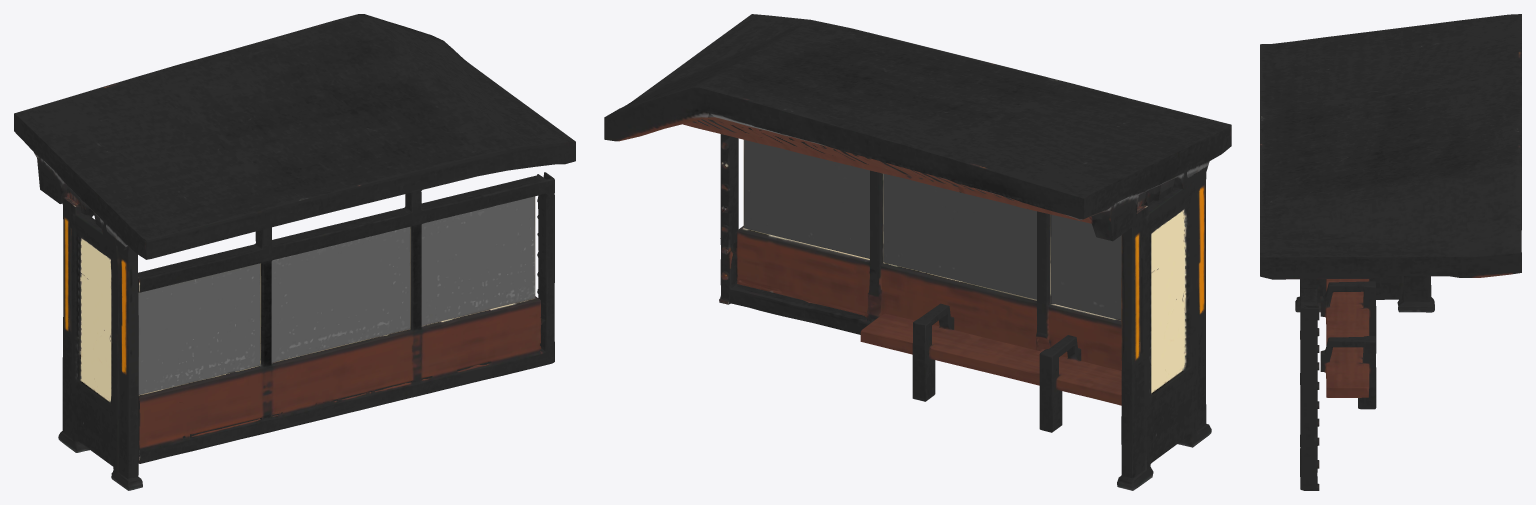
The model's file is tram_shelter.glb.
The picture shows the model from 3 angles, left to right: view 1: azimuth 30°, elevation 25°; view 2: azimuth 150°, elevation 25°; view 3: azimuth 270°, elevation 25°; orthographic projection. The views are drawn at different scales.
Parts seen in each view (by area): view 1: shelter; view 2: shelter; view 3: shelter.
Boxes of the visible parts, x1,y1,x2,y2 form: shelter: [14, 14, 575, 490]; shelter: [604, 14, 1231, 490]; shelter: [1260, 14, 1521, 490].
Size of the model in its own units: 4.3 by 2.97 by 2.3.
Materials: 2 (2 with a texture image).
